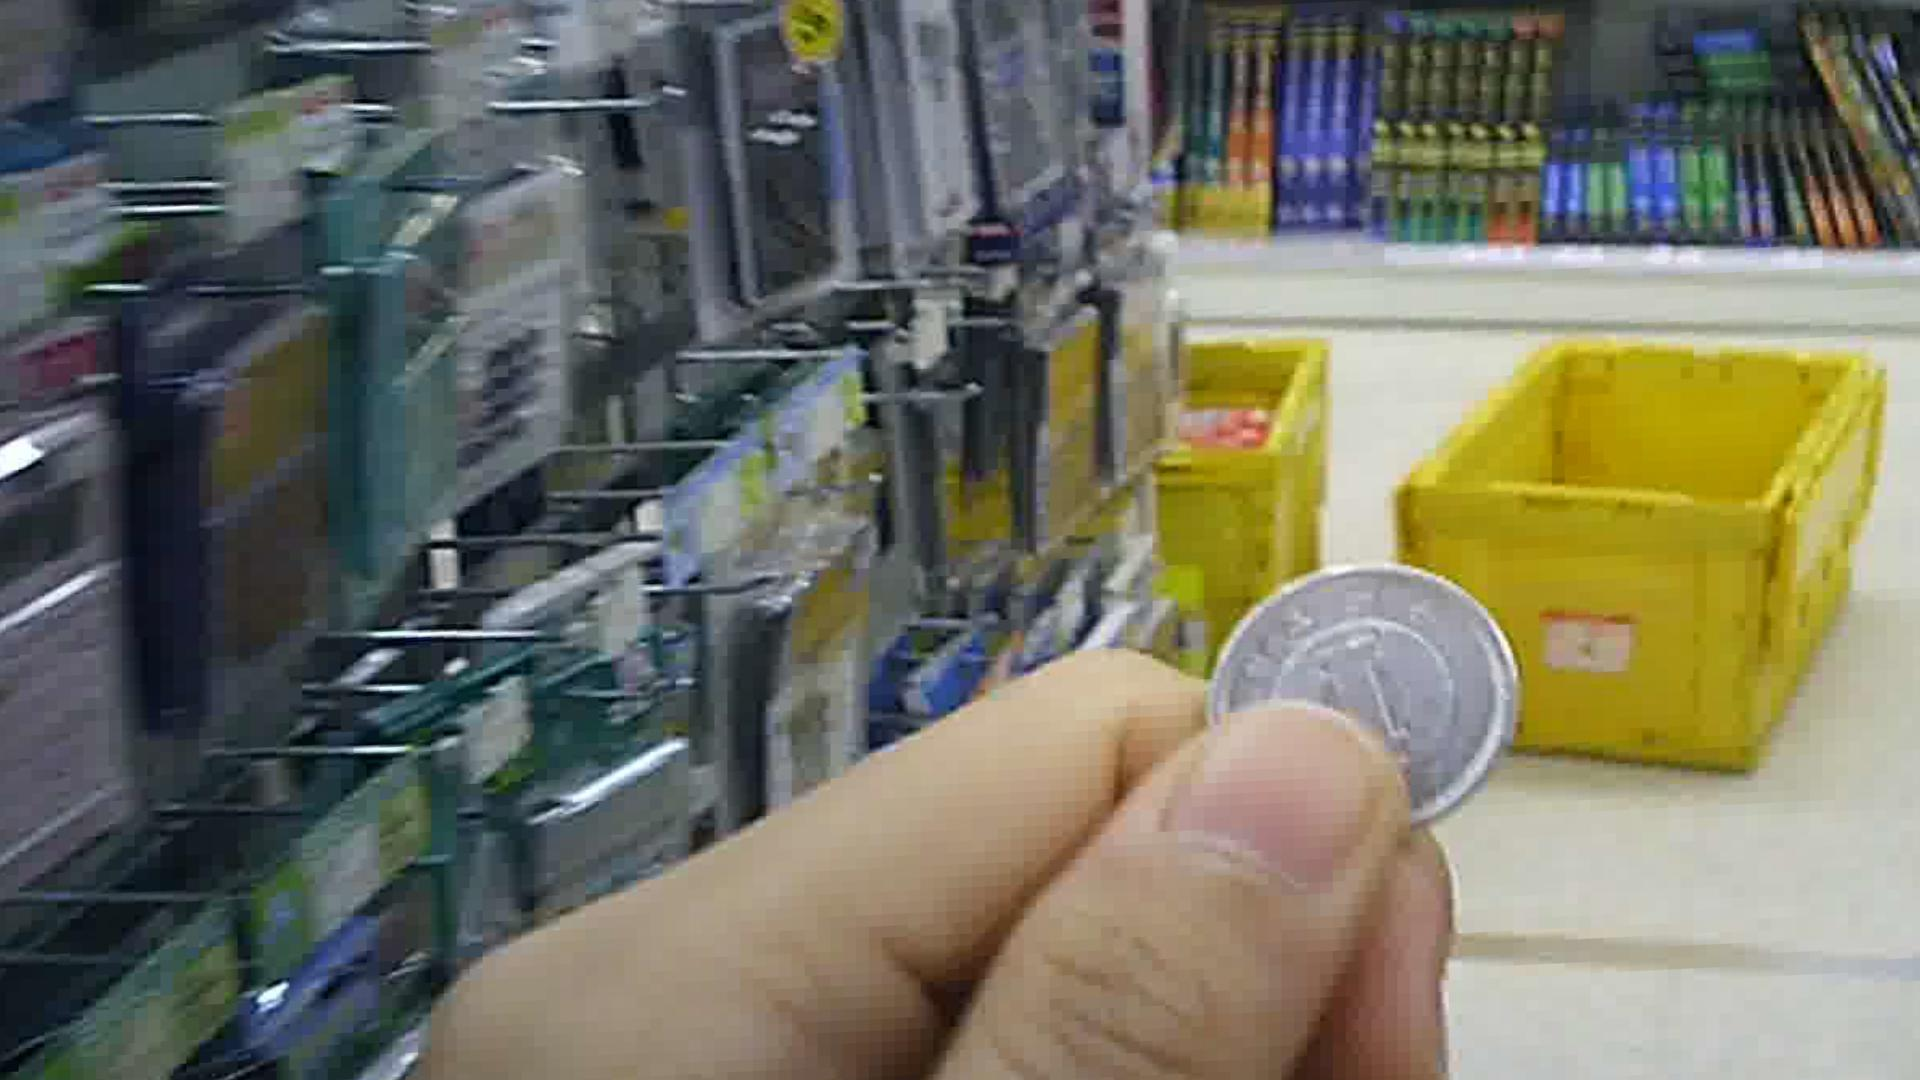1 Yen: (1195, 534, 1534, 851)
